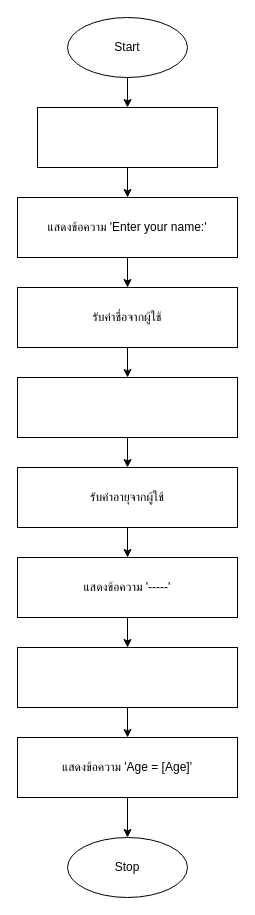
The diagram is 255 pixels wide and 915 high, and some of its shapes have lost their labels. The shapes that lost their labels are listed below. From the top down, each one's centre as x and y in pixels, then its label:
point (127, 137): ประกาศตัวแปร Name, Age
point (127, 407): แสดงข้อความ 'Enter your age:'
point (127, 677): แสดงข้อความ 'Hello [Name]'
